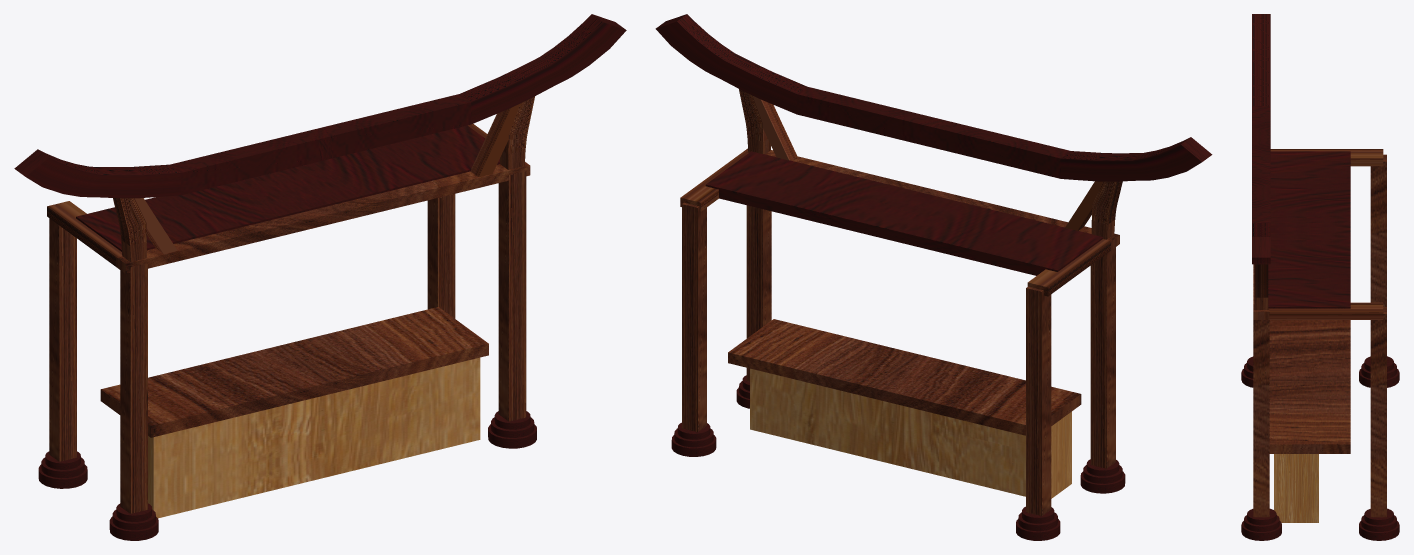
File: stall.obj
The picture shows the model from 3 angles, left to right: view 1: azimuth 30°, elevation 25°; view 2: azimuth 150°, elevation 25°; view 3: azimuth 270°, elevation 25°; orthographic projection. The views are drawn at different scales.
Bounding box in the file's own units: 139 × 88.48 × 38.38.
